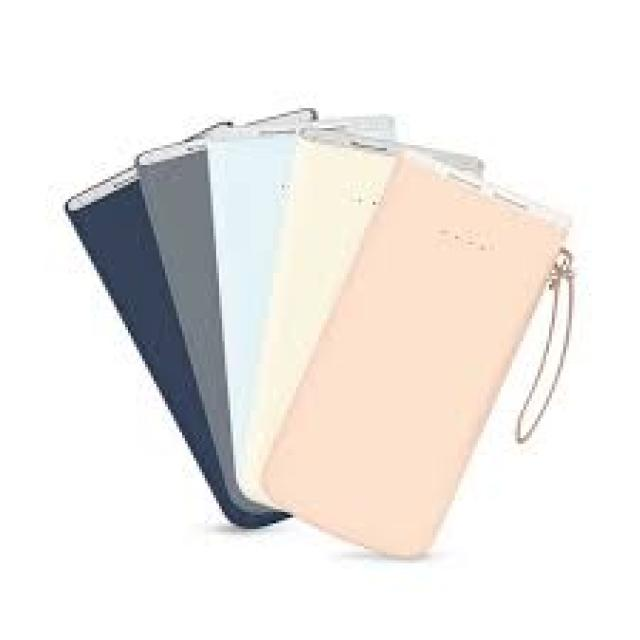power_bank: (266, 154, 572, 560), (60, 130, 295, 524), (237, 130, 479, 510), (138, 106, 328, 524), (208, 118, 401, 506)
